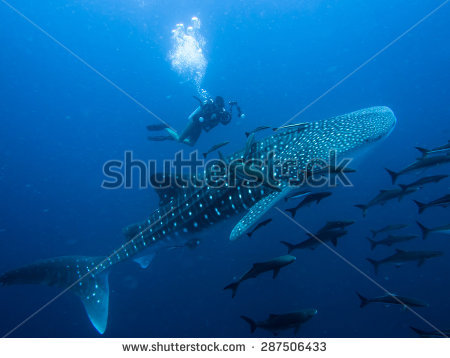Rhincodon_typusw: (12, 105, 427, 335)
